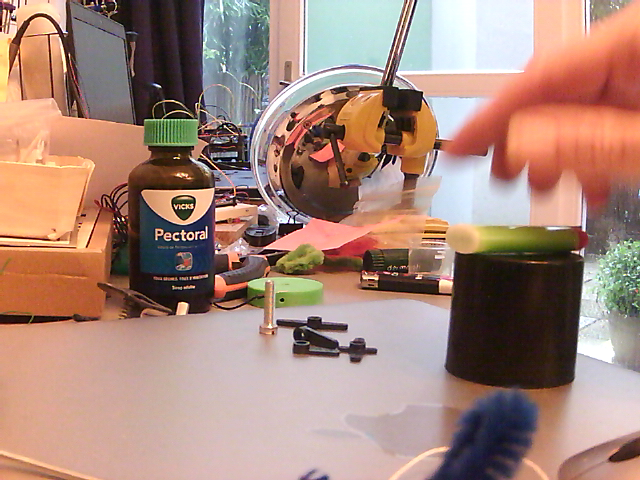bolt: (259, 278, 278, 339)
lighter: (445, 225, 591, 251)
